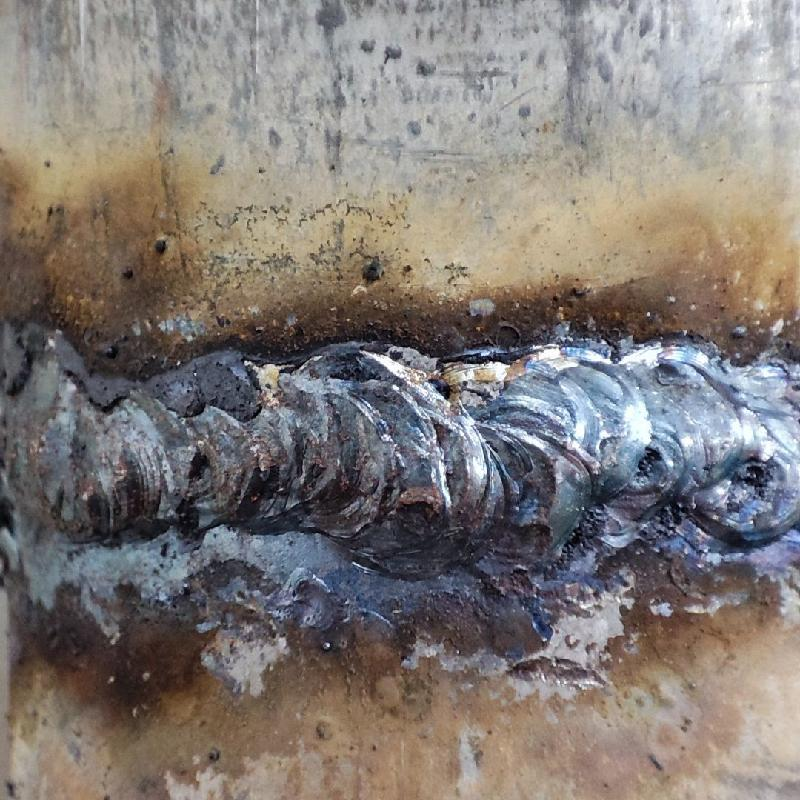Surface_pores: (173, 434, 229, 488)
good: (1, 306, 799, 563)
